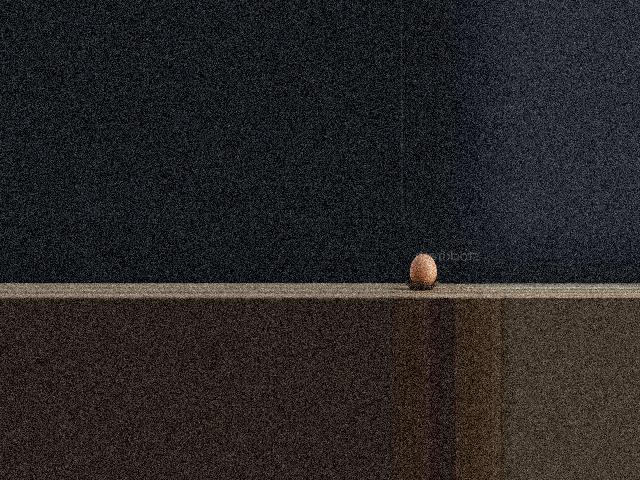egg: (409, 254, 436, 283)
